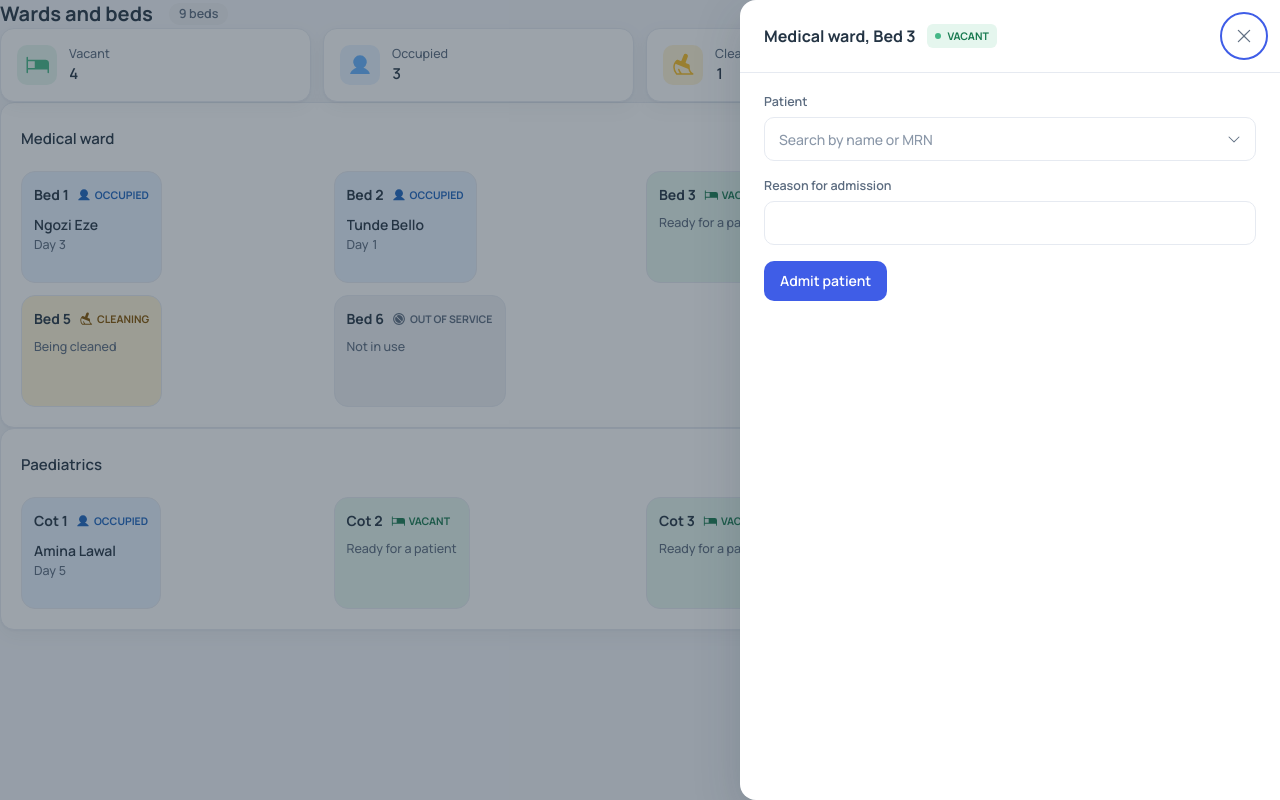
Test: admitting › asks for the patient and a reason before sending anything
This screenshot has width=1280, height=800.
What coordinates should you click on to do the following:
click the button "Admit patient"
I would click on:
 (826, 281)
Its box is [764,261,887,301].
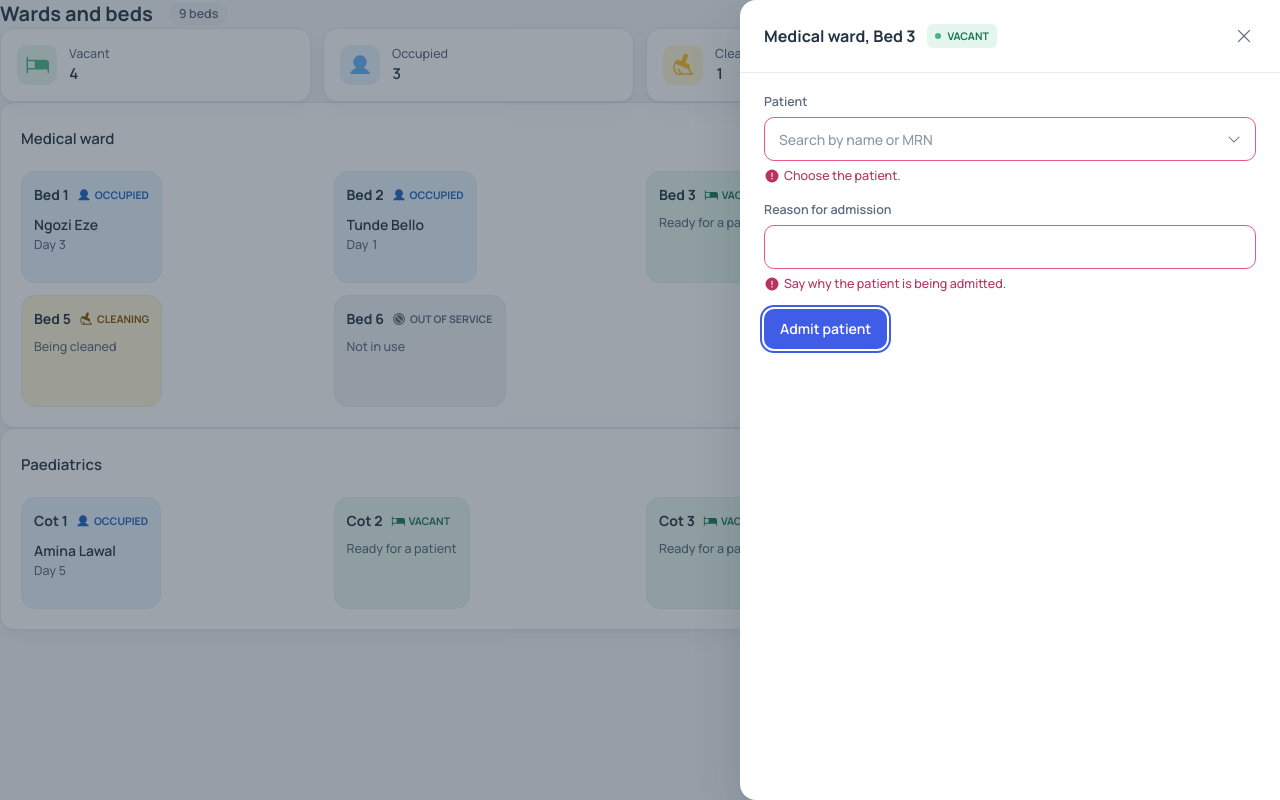
Now the text "Choose the patient." is shown, box [764,167,901,185]
Now the text "Say why the patient is being admitted." is shown, box [764,275,1006,293]
